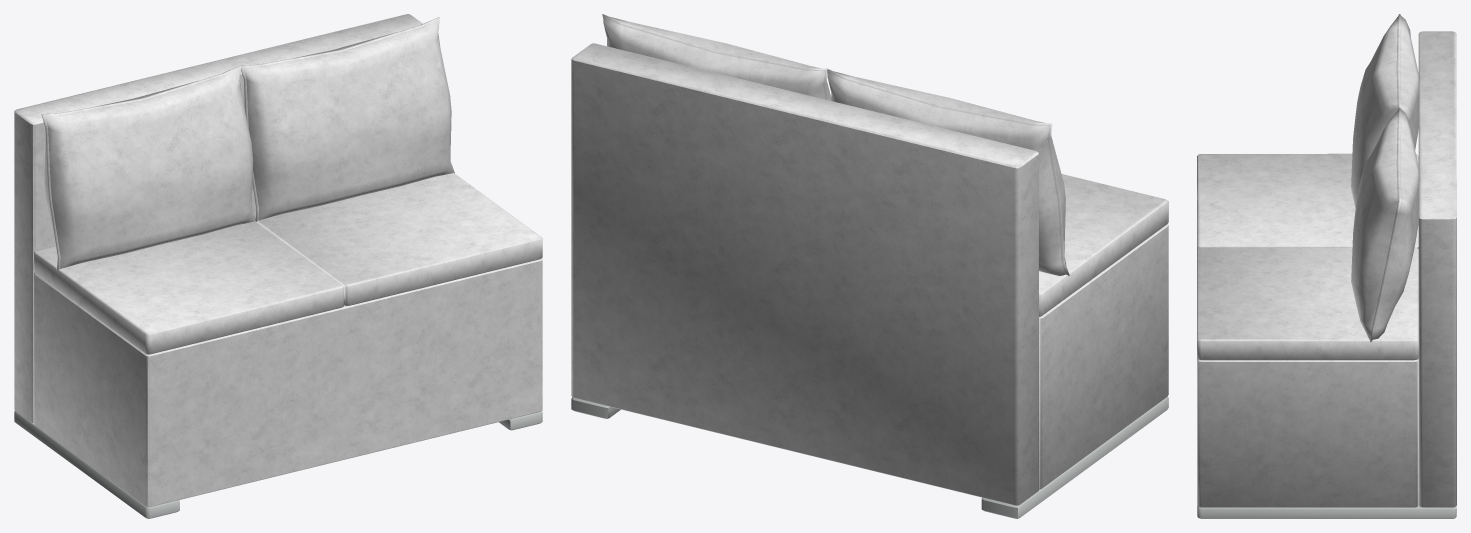
File: Sofa07_4.FBX
The picture shows the model from 3 angles, left to right: view 1: azimuth 30°, elevation 25°; view 2: azimuth 150°, elevation 25°; view 3: azimuth 270°, elevation 25°; orthographic projection. The views are drawn at different scales.
Visible parts, largest first — view 1: Sofa07_4; view 2: Sofa07_4; view 3: Sofa07_4.
Boxes of the visible parts, <box> form: Sofa07_4: <box>14,14,542,518</box>; Sofa07_4: <box>571,14,1168,518</box>; Sofa07_4: <box>1197,14,1456,518</box>.
Size of the model in its own units: 144 by 114 by 84.11.
